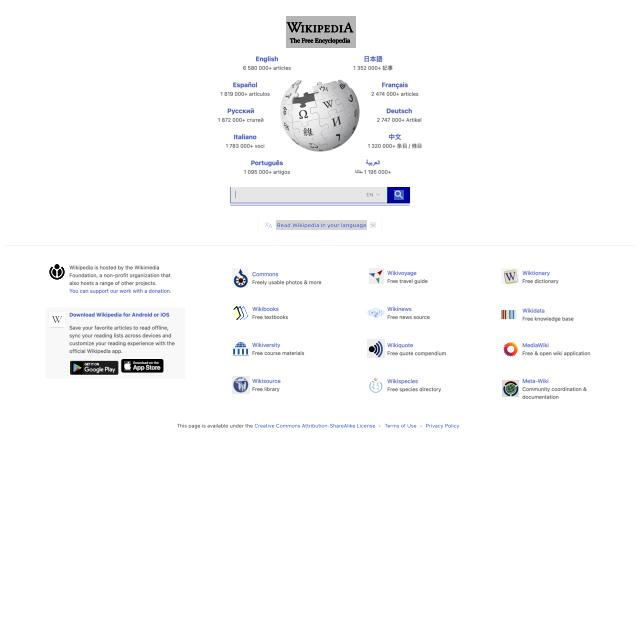CheckBox: (69, 360, 119, 376), (120, 360, 165, 376), (387, 188, 410, 205)
CheckedTextView: (230, 188, 410, 205)
accordion: (387, 224, 413, 229), (225, 224, 255, 228)
alert: (259, 217, 381, 233), (366, 193, 381, 201)
badge: (1, 414, 640, 434)
carousel: (394, 192, 404, 202), (370, 222, 376, 228)
content: (367, 339, 385, 358), (232, 376, 250, 394), (232, 268, 248, 288), (364, 305, 386, 319), (232, 340, 250, 357), (367, 376, 384, 394), (502, 380, 519, 397), (232, 304, 248, 322), (501, 268, 519, 284), (503, 341, 519, 358), (369, 268, 384, 284), (502, 308, 520, 320)
data feed: (276, 220, 367, 230)
date picker: (286, 16, 356, 48), (48, 263, 65, 283), (49, 312, 65, 327), (72, 362, 83, 374), (124, 363, 131, 373)
